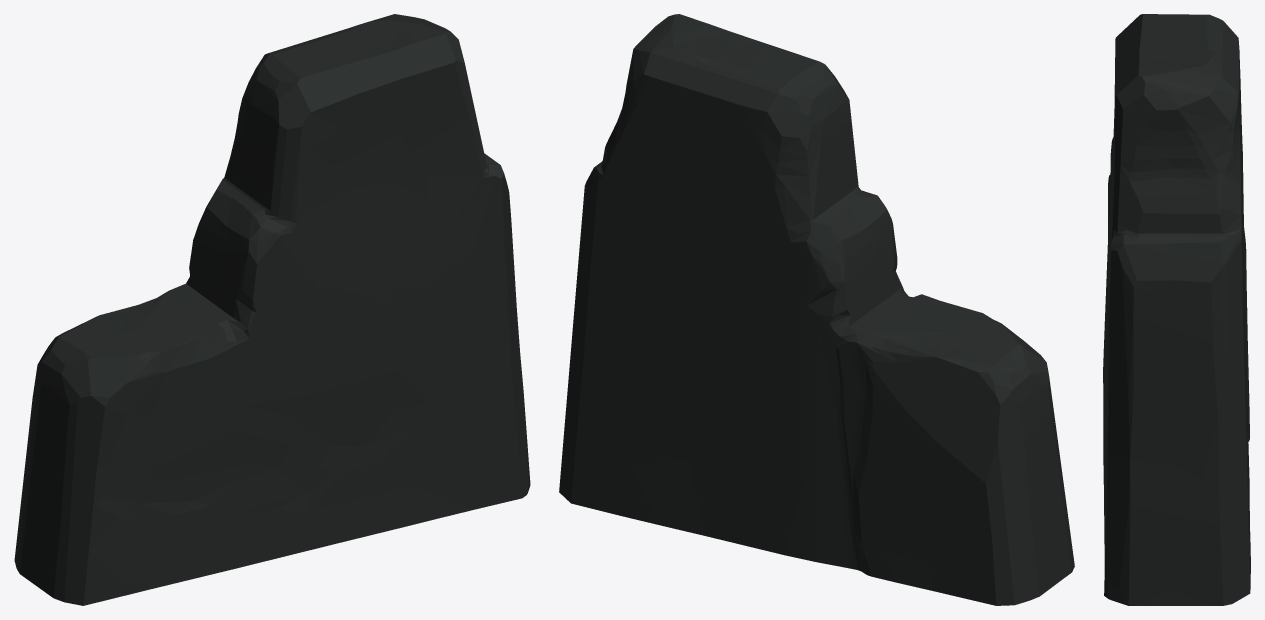
Rendered from Cliff_03.FBX.
3 views of the same model, side by side, from view 1: azimuth 30°, elevation 25°; view 2: azimuth 150°, elevation 25°; view 3: azimuth 270°, elevation 25° (orthographic). The views are drawn at different scales.
Parts seen in each view (by area): view 1: Cliff_03; view 2: Cliff_03; view 3: Cliff_03.
Part boxes in pixels (<box>): Cliff_03: <box>14,14,530,605</box>; Cliff_03: <box>559,14,1074,605</box>; Cliff_03: <box>1103,14,1250,605</box>.
Bounding box in the file's own units: 49.34 × 46.45 × 12.72.
